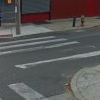crosswalk: (0, 36, 99, 69)
